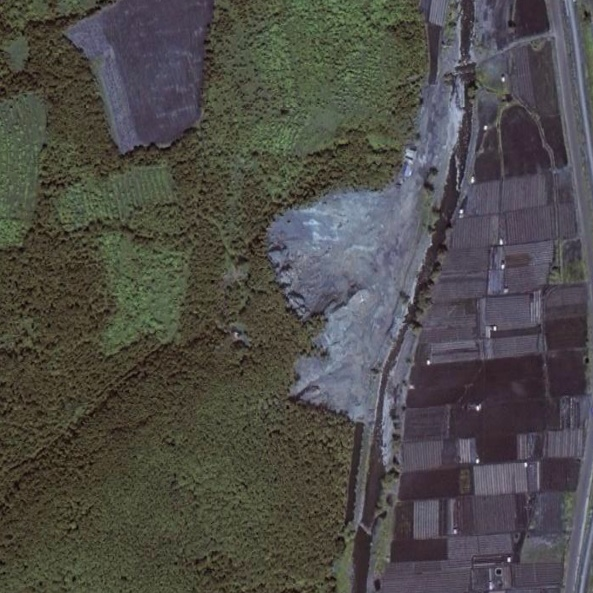slope: (261, 176, 423, 425)
